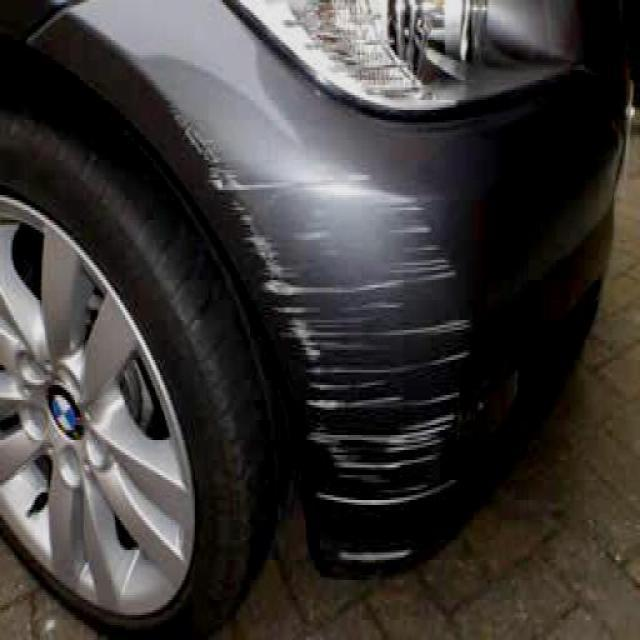Car-Damage: (176, 118, 475, 515)
